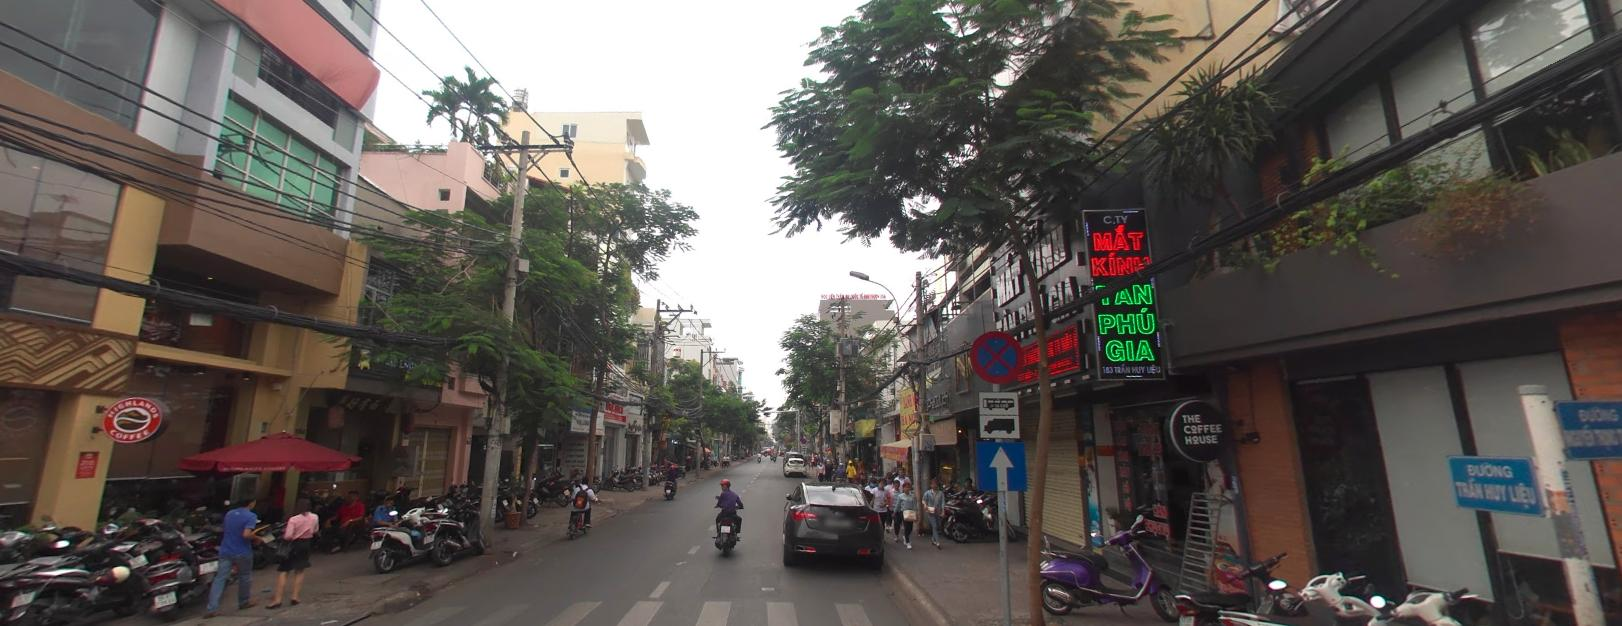Cam dung va do: (969, 327, 1025, 382)
